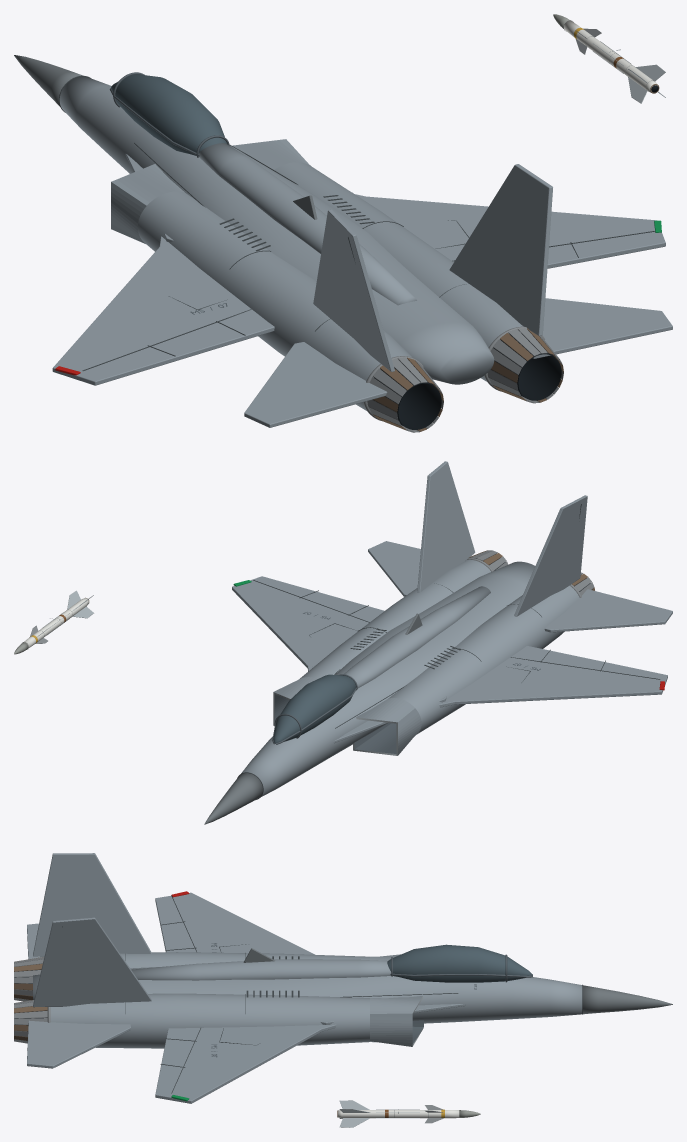
Rendered from aircraft.glb.
3 renders of one model, top to bottom at view 1: azimuth 30°, elevation 25°; view 2: azimuth 150°, elevation 25°; view 3: azimuth 270°, elevation 25°, orthographic. The views are drawn at different scales.
Parts seen in each view (by area): view 1: Fighter | central fuselage, Fighter | port swept wing, Fighter | port engine fairing, Fighter | starboard vertical stabilizer, Fighter | starboard swept wing, Fighter | starboard engine fairing, Fighter | port tailplane, Fighter | port vertical stabilizer, Fighter | dorsal spine, Fighter | single seat canopy, Fighter | starboard tailplane, Fighter | port inlet fairing (+5 smaller); view 2: Fighter | central fuselage, Fighter | port engine fairing, Fighter | port swept wing, Fighter | starboard swept wing, Fighter | starboard vertical stabilizer, Fighter | starboard engine fairing, Fighter | port vertical stabilizer, Fighter | dorsal spine, Fighter | port tailplane, Fighter | single seat canopy, Fighter | starboard tailplane, Fighter | port inlet fairing (+3 smaller); view 3: Fighter | starboard engine fairing, Fighter | central fuselage, Fighter | starboard swept wing, Fighter | starboard vertical stabilizer, Fighter | port vertical stabilizer, Fighter | port swept wing, Fighter | dorsal spine, Fighter | single seat canopy, Fighter | starboard tailplane, Fighter | starboard inlet fairing, Fighter | port engine fairing, Fighter | ogive radome (+1 smaller).
Boxes of the visible parts, bbox=[...] form: Fighter | central fuselage: bbox=[59, 76, 494, 384]; Fighter | port swept wing: bbox=[52, 236, 274, 385]; Fighter | port engine fairing: bbox=[137, 191, 412, 411]; Fighter | starboard vertical stabilizer: bbox=[449, 164, 552, 335]; Fighter | starboard swept wing: bbox=[354, 194, 665, 268]; Fighter | starboard engine fairing: bbox=[274, 162, 523, 381]; Fighter | port tailplane: bbox=[244, 342, 387, 427]; Fighter | port vertical stabilizer: bbox=[313, 209, 394, 371]; Fighter | dorsal spine: bbox=[199, 143, 416, 305]; Fighter | single seat canopy: bbox=[111, 74, 227, 155]; Fighter | starboard tailplane: bbox=[519, 298, 672, 358]; Fighter | port inlet fairing: bbox=[111, 164, 184, 244]; Fighter | central fuselage: bbox=[241, 561, 535, 796]; Fighter | port engine fairing: bbox=[388, 585, 579, 734]; Fighter | port swept wing: bbox=[439, 645, 667, 707]; Fighter | starboard swept wing: bbox=[232, 576, 384, 671]; Fighter | starboard vertical stabilizer: bbox=[417, 461, 475, 592]; Fighter | starboard engine fairing: bbox=[300, 559, 491, 678]; Fighter | port vertical stabilizer: bbox=[514, 495, 587, 616]; Fighter | dorsal spine: bbox=[344, 586, 490, 688]; Fighter | port tailplane: bbox=[544, 589, 672, 632]; Fighter | single seat canopy: bbox=[273, 674, 356, 743]; Fighter | starboard tailplane: bbox=[368, 541, 420, 596]; Fighter | port inlet fairing: bbox=[356, 698, 421, 755]; Fighter | starboard engine fairing: bbox=[50, 993, 369, 1048]; Fighter | central fuselage: bbox=[33, 967, 582, 1023]; Fighter | starboard swept wing: bbox=[155, 1024, 336, 1103]; Fighter | starboard vertical stabilizer: bbox=[33, 917, 151, 1007]; Fighter | port vertical stabilizer: bbox=[33, 853, 151, 956]; Fighter | port swept wing: bbox=[155, 892, 315, 954]; Fighter | dorsal spine: bbox=[131, 959, 391, 980]; Fighter | single seat canopy: bbox=[387, 944, 532, 982]; Fighter | starboard tailplane: bbox=[27, 1020, 130, 1068]; Fighter | starboard inlet fairing: bbox=[370, 996, 422, 1046]; Fighter | port engine fairing: bbox=[120, 952, 369, 968]; Fighter | ogive radome: bbox=[583, 985, 672, 1014].
Bounding box in the file's own units: 14.61 × 3.82 × 16.42.
